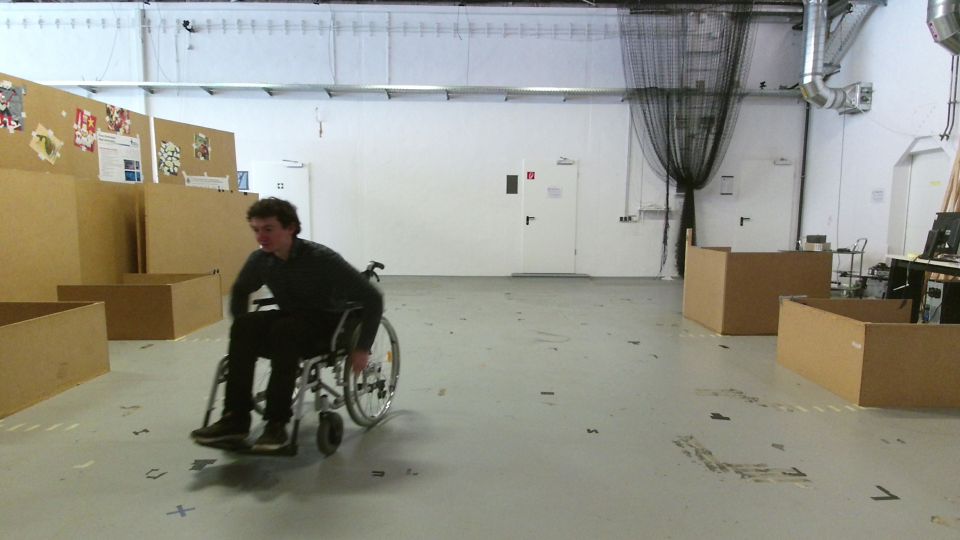wheelchair: (183, 190, 405, 461)
